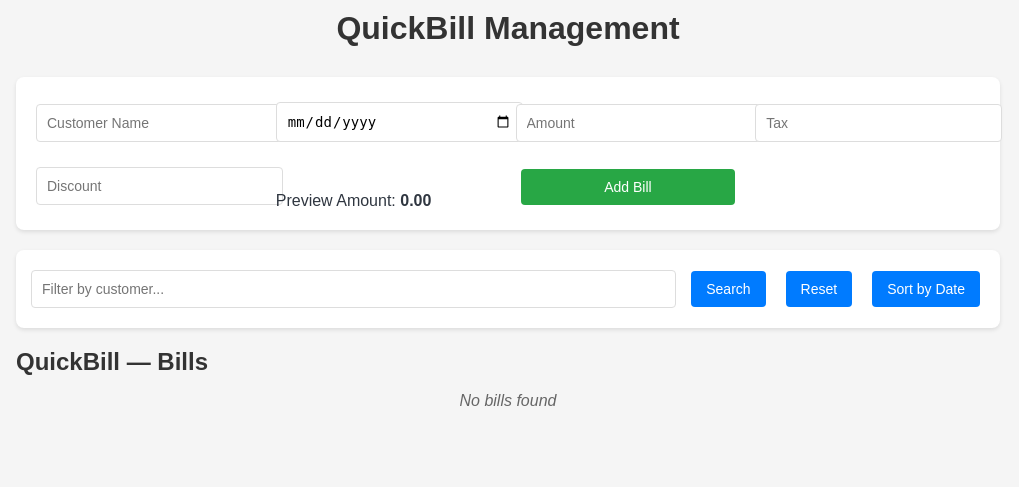
QuickBill React App › add_bill_should_send_computed_total_and_refresh_list
Type "Rahul" into the field with placeholder "Customer Name" at (159, 123), box [36,104,283,142]
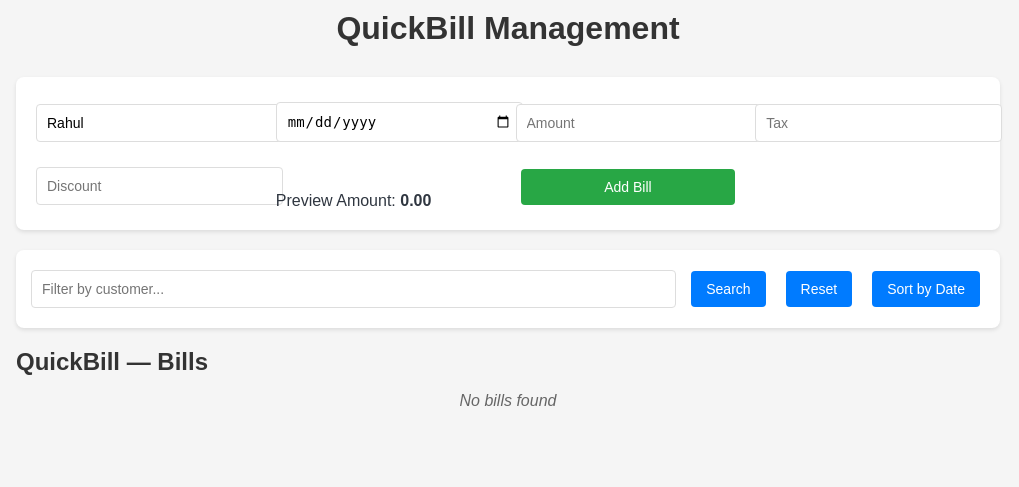
Type "2025-09-12" into the date field named "billDate" at (399, 122), box [276,102,523,142]
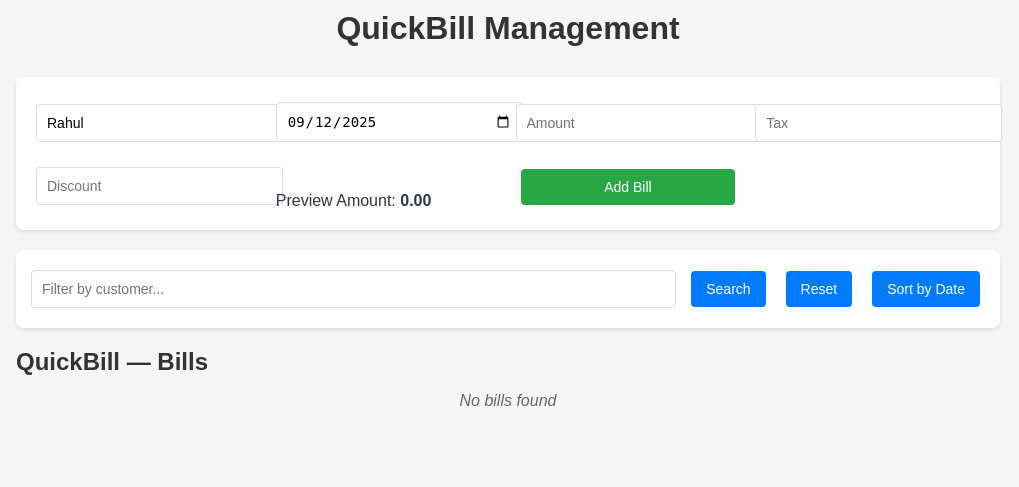
Type "1000.50" into the number field with placeholder "Amount" at (639, 123), box [516,104,762,142]
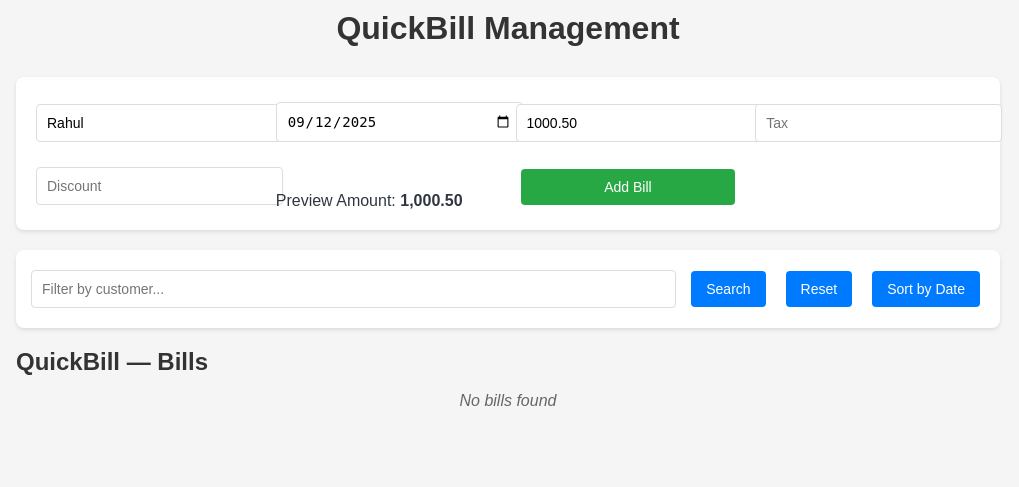
Type "50" into the number field with placeholder "Tax" at (879, 123), box [755,104,1002,142]
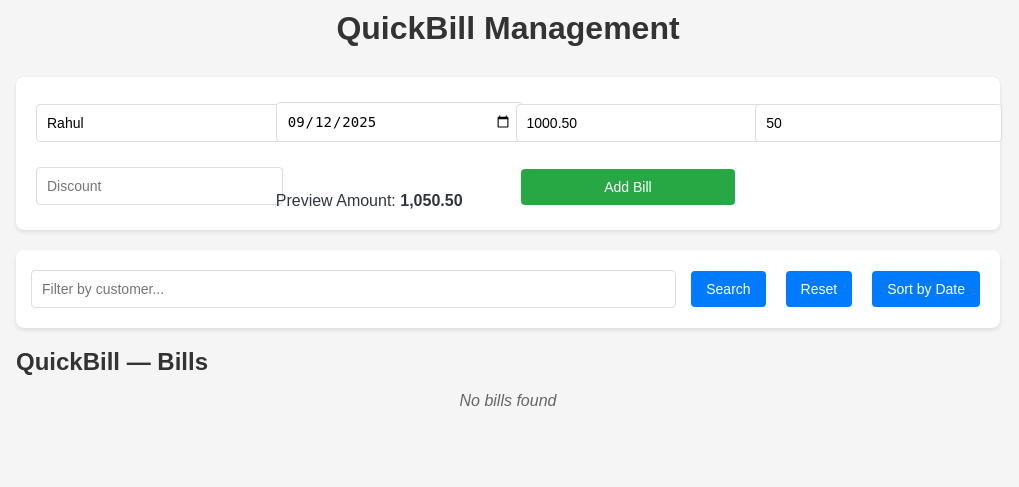
Type "10" into the number field with placeholder "Discount" at (159, 186), box [36,167,283,205]
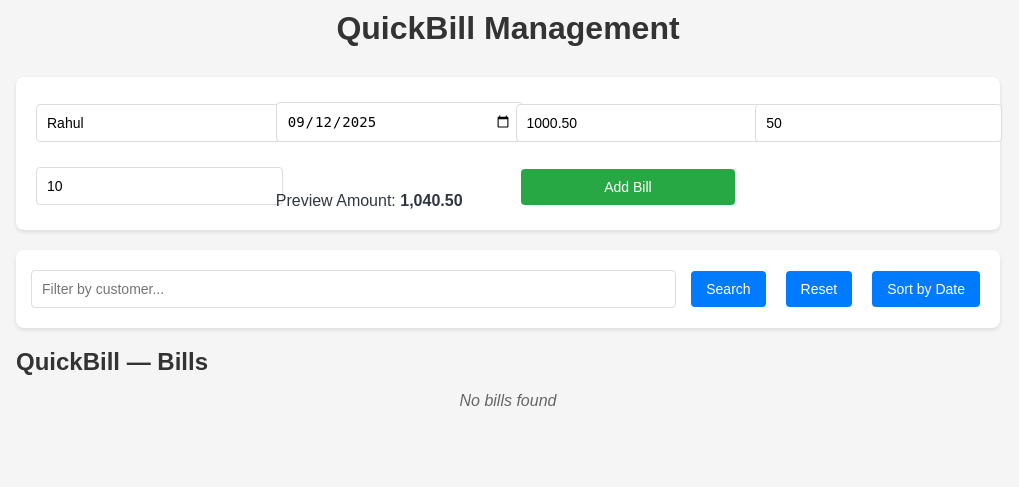
Click the button "Add Bill" at (628, 187), box [520,169,735,205]
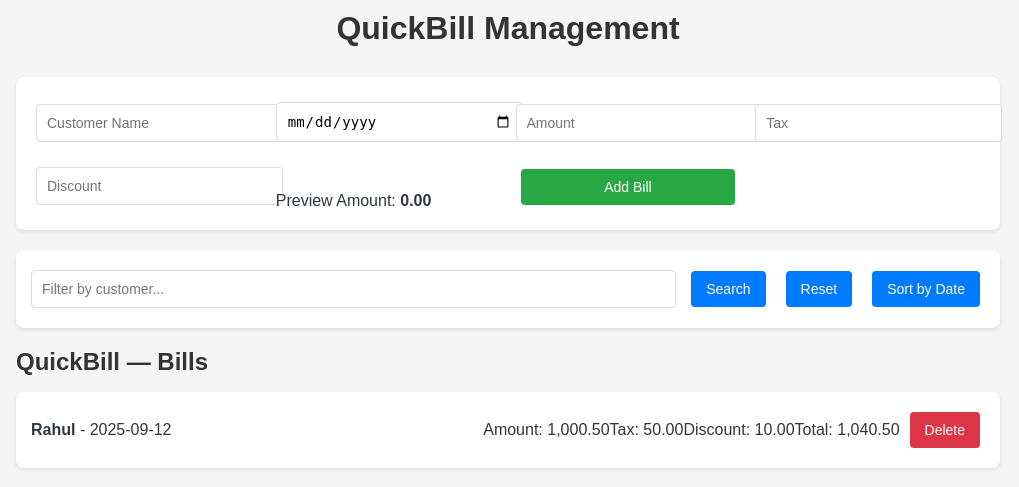
Expected: the text "Rahul" is shown, [31,421,76,438]
